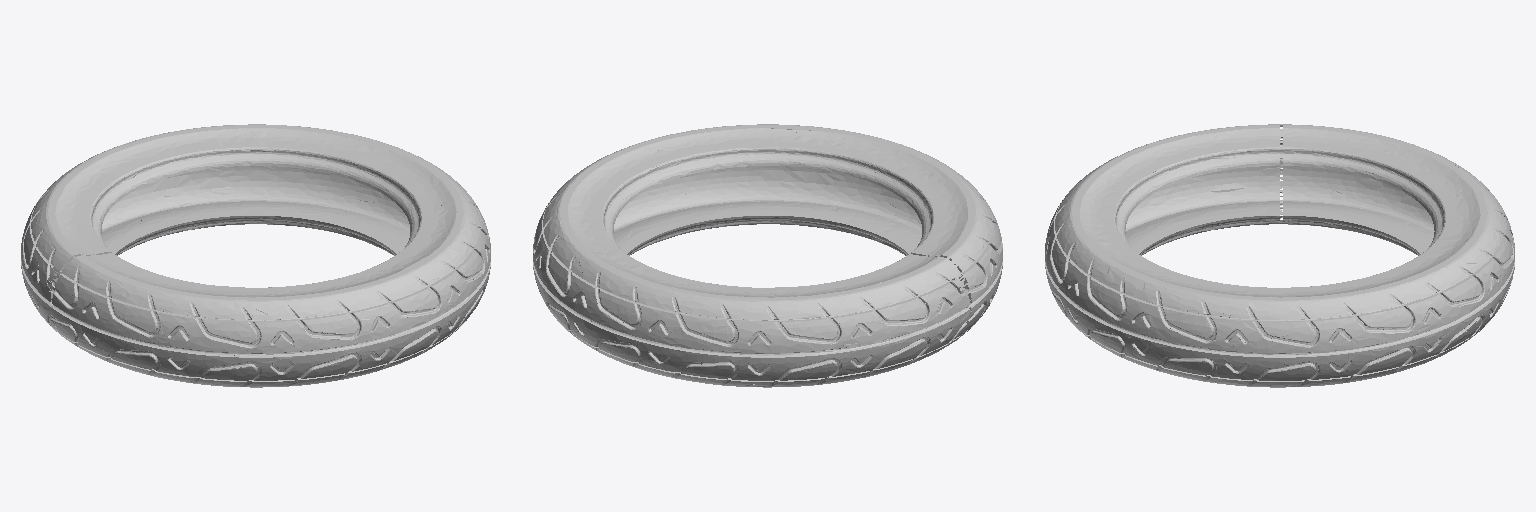
The model's file is scooter_tire.obj.
3 renders of one model, left to right at view 1: azimuth 30°, elevation 25°; view 2: azimuth 150°, elevation 25°; view 3: azimuth 270°, elevation 25°, orthographic.
Visible parts, largest first — view 1: obj_0; view 2: obj_0; view 3: obj_0.
Boxes of the visible parts, <box> form: obj_0: <box>21,124,490,387</box>; obj_0: <box>533,124,1002,387</box>; obj_0: <box>1045,124,1514,387</box>.
Size of the model in its own units: 39.49 by 8 by 39.49.